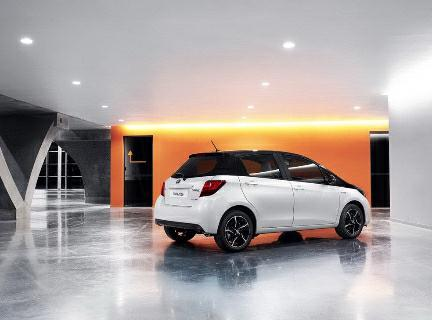丰田-Auris: (145, 145, 380, 256)
